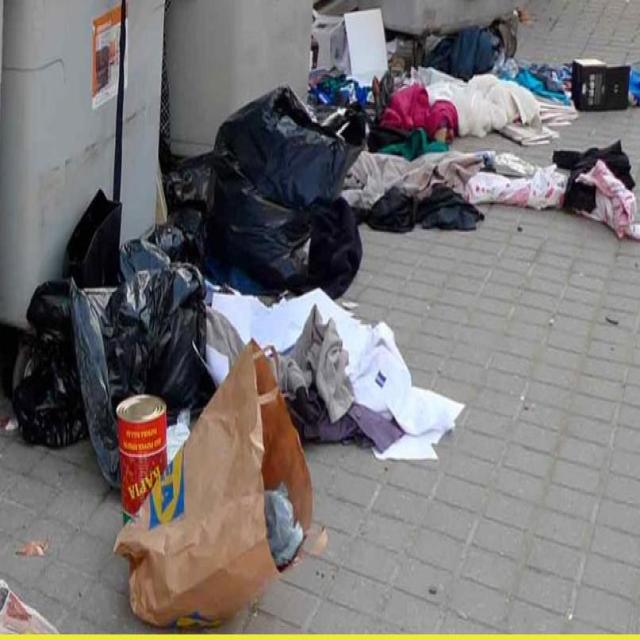litter: (190, 4, 638, 278)
